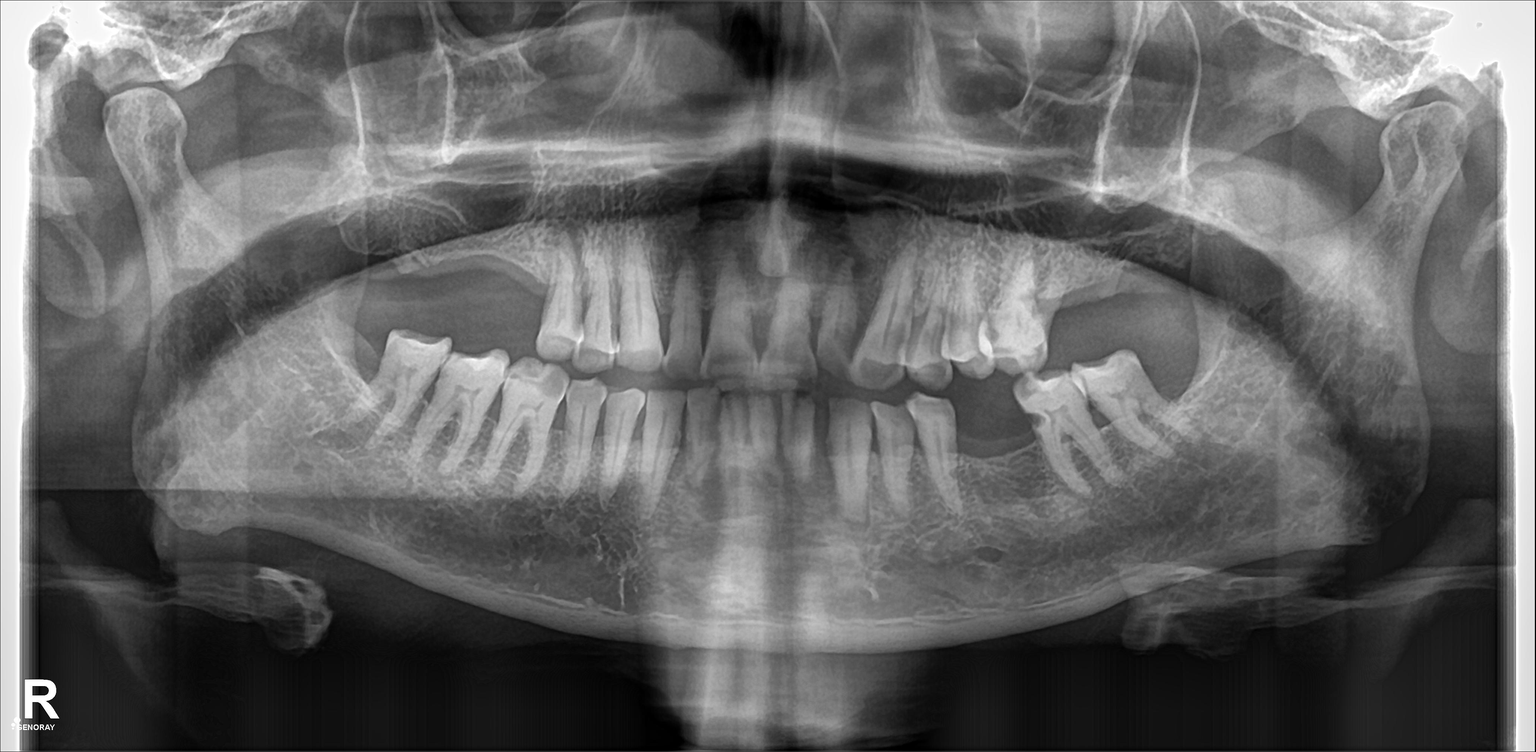Missing Tooth: (412, 233, 466, 319), (1095, 249, 1141, 349), (499, 235, 539, 341), (1153, 235, 1195, 322), (343, 322, 389, 401), (959, 406, 1004, 486), (462, 242, 499, 337), (367, 240, 407, 316), (1052, 270, 1094, 334), (1155, 342, 1192, 393)
